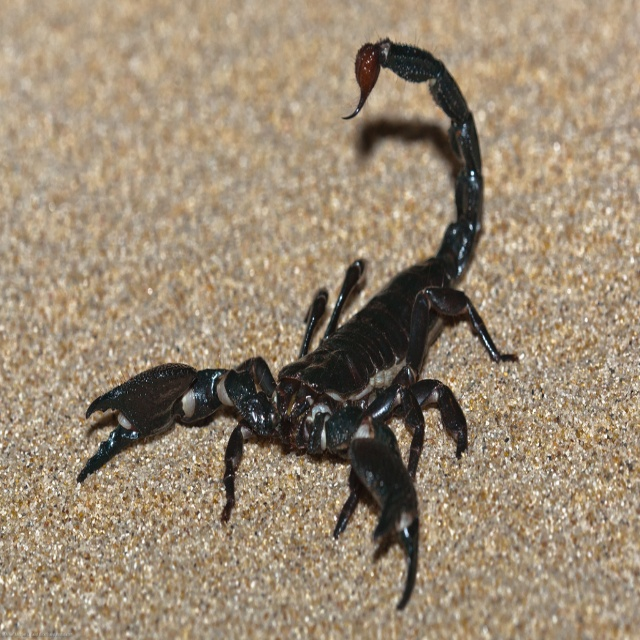Scorpion: (77, 25, 520, 612)
